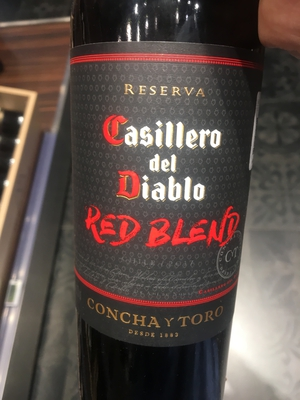casillero del diablo red blend: (70, 14, 265, 400)
